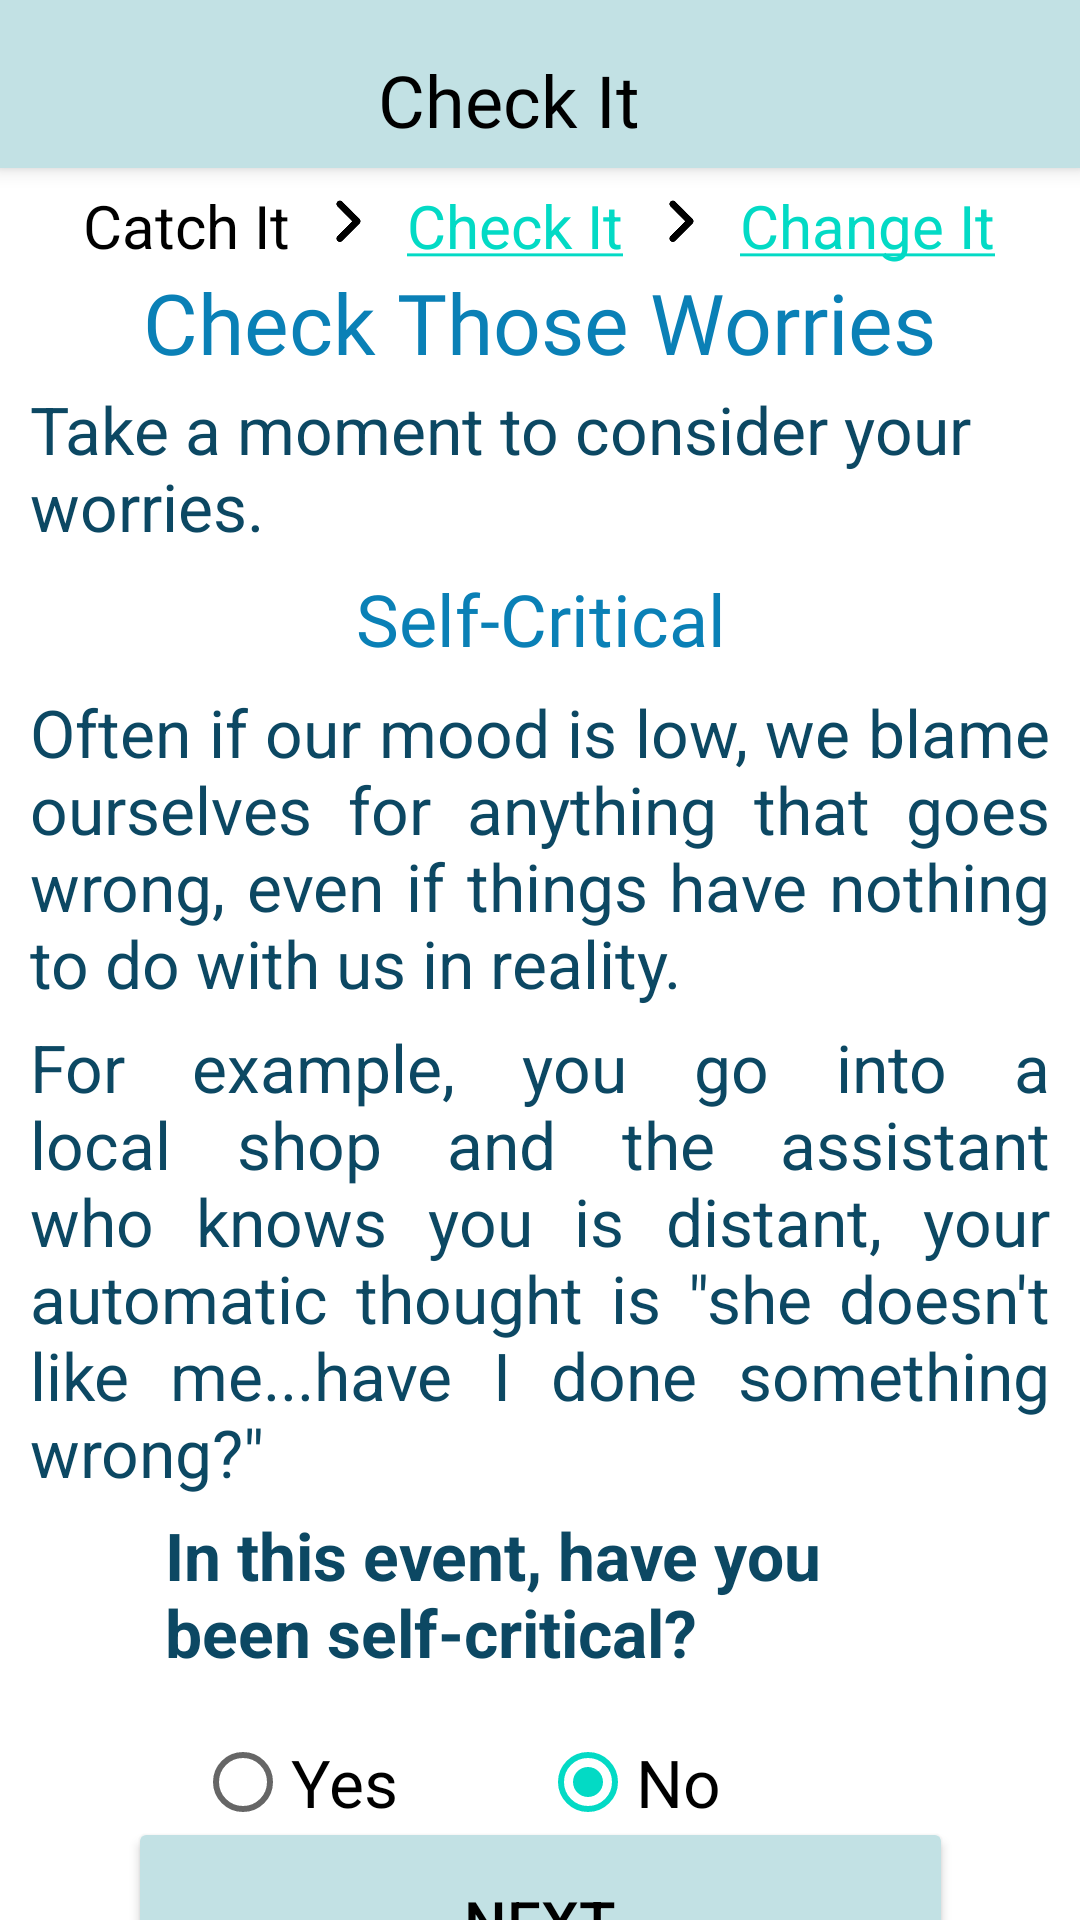

Where icons sit on this 1080x1920 app screen, as [x1, y1, x2, y2]:
right: [336, 200, 361, 242], [669, 200, 694, 242]
